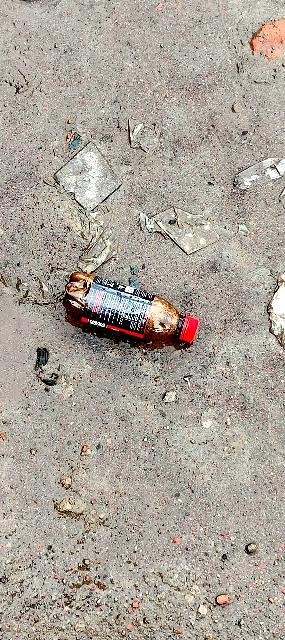bottle: (62, 263, 209, 347)
